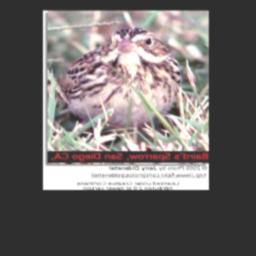Sparrow: (57, 26, 185, 147)
